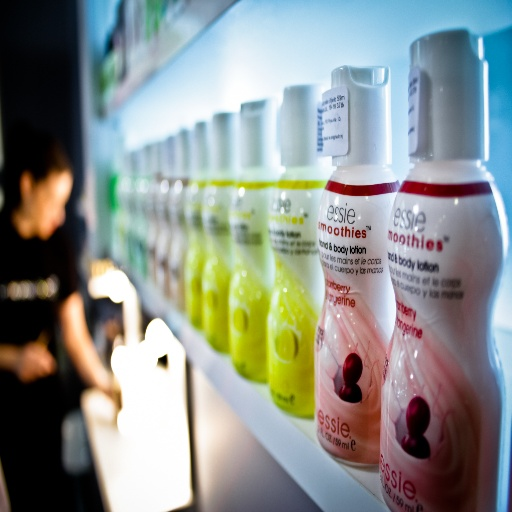hand: (17, 340, 55, 381), (107, 379, 121, 409)
